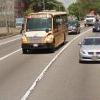Bus: (17, 6, 71, 57)
